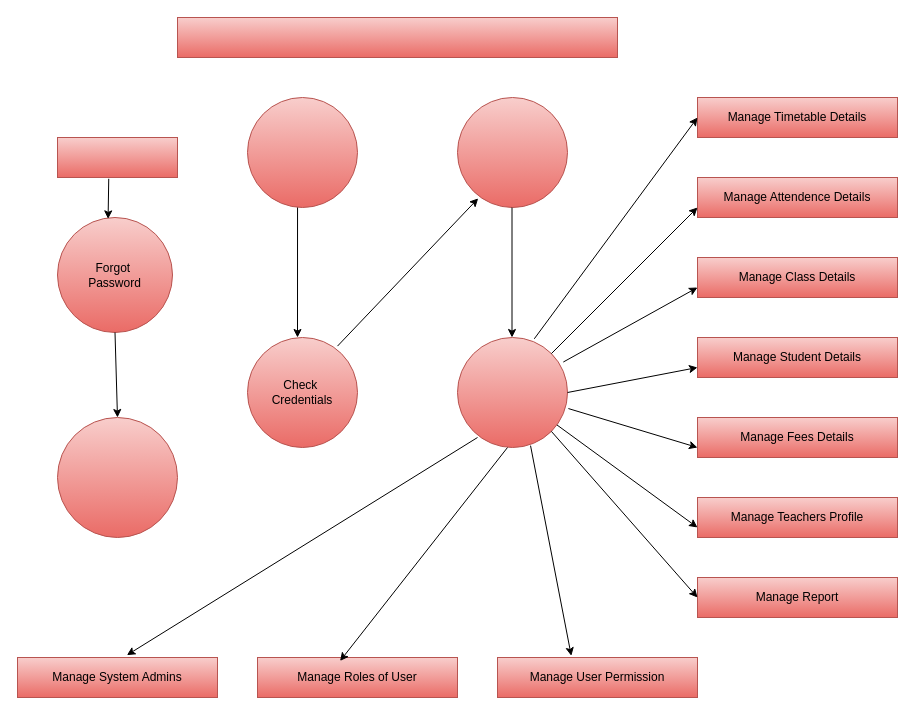
Image size: 915x715. Some labels were removed from this diagram. The box of each missing label's shape, as (x1, y1, x2, y2) in pixels:
Admin: (56, 136, 178, 178)
Check Roles of Access: (456, 96, 568, 208)
Login to System: (246, 96, 358, 208)
Manage Modules: (456, 336, 568, 448)
Send Email to User: (56, 416, 178, 538)
Student Information System: (176, 16, 618, 58)
